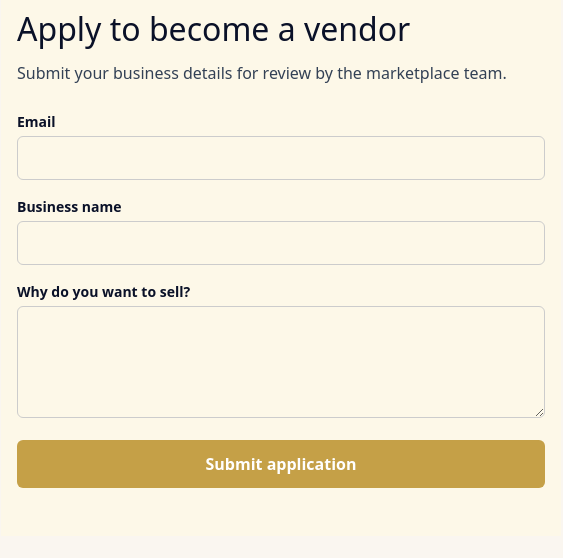
Test: ApplyPage behavioral › API rejection shows error and allows retry
Type "a@b.com" into the field labelled "Email" at (281,158), box [17,136,545,180]
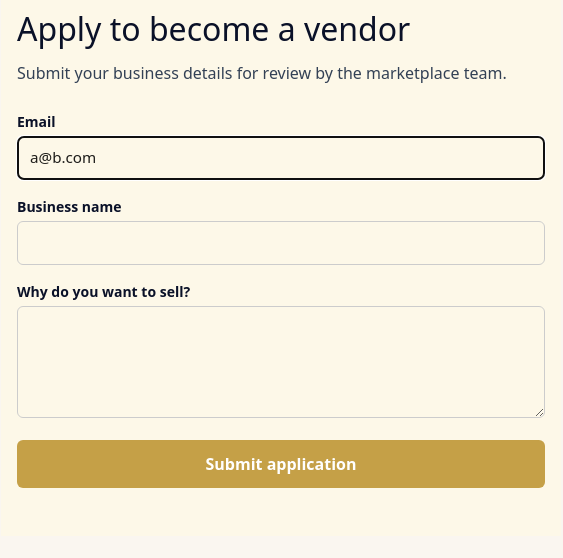
Type "B" into the field labelled "Business name" at (281,243), box [17,221,545,265]
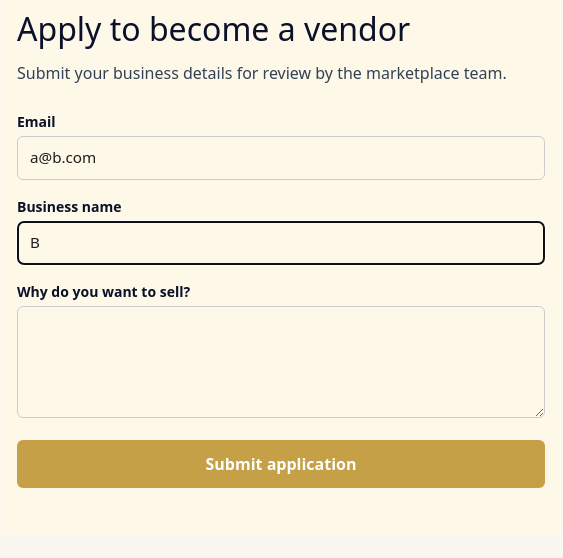
Type "Reason" into the text box labelled "Why do you want to sell?" at (281,362), box [17,306,545,418]
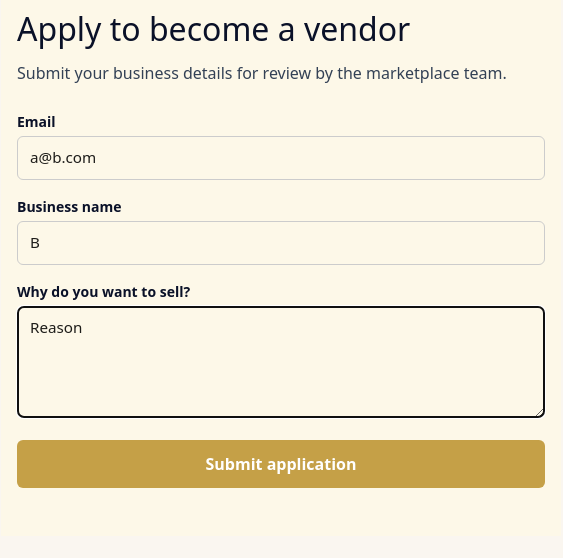
Click the button "Submit application" at (281,464), box [17,440,545,488]
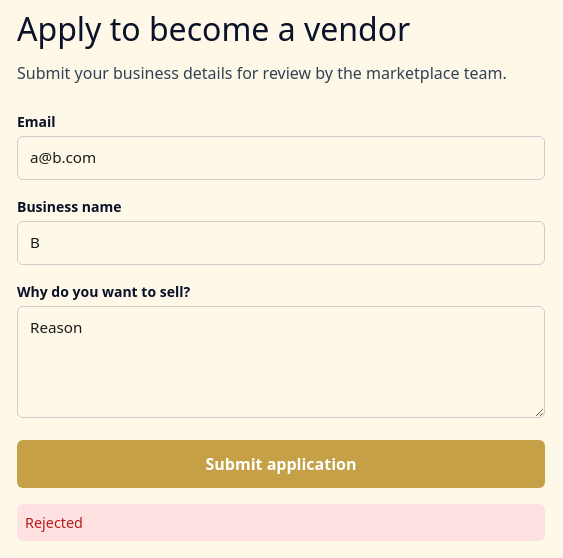
Check: the message "Rejected" is shown, box [17,504,545,541]
